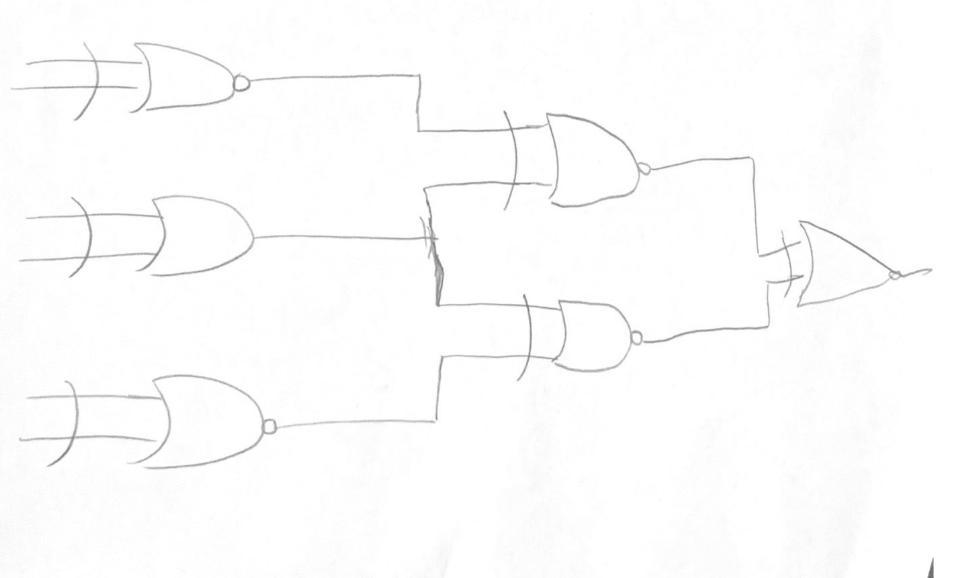XNOR: (50, 361, 300, 482), (491, 96, 680, 231), (68, 37, 272, 141), (514, 274, 668, 398), (769, 206, 927, 313)
XOR: (49, 182, 270, 300)
